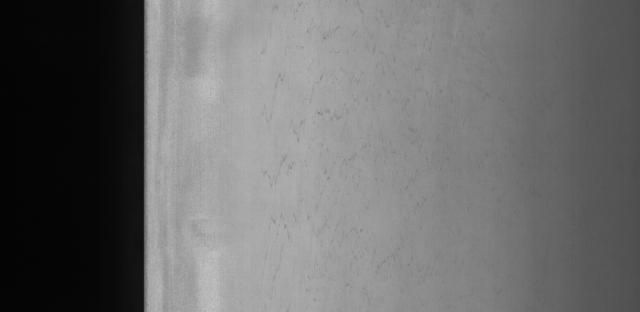silk_spot: (257, 17, 414, 246)
